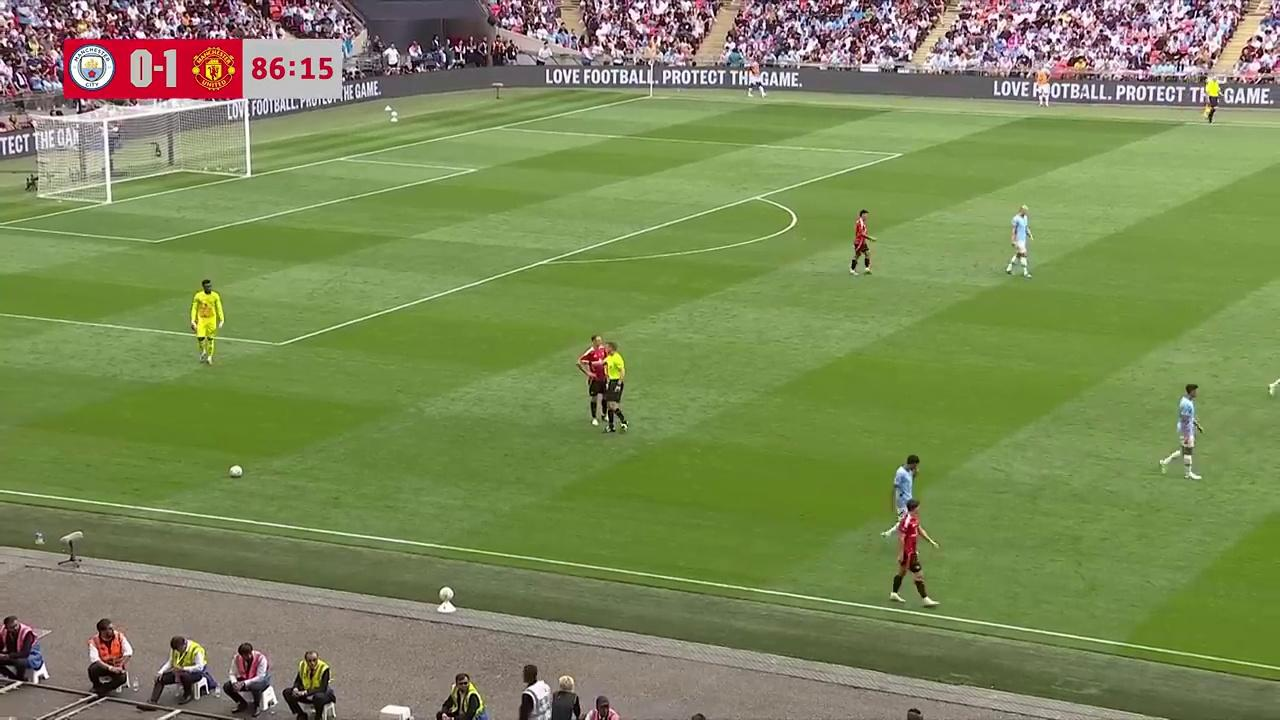ball: (229, 464, 243, 480)
player: (888, 501, 939, 604), (1159, 384, 1204, 479), (892, 454, 931, 543), (190, 280, 224, 365), (576, 336, 608, 426), (1005, 206, 1033, 279), (891, 454, 919, 526), (850, 210, 875, 275), (1269, 346, 1280, 398)
referee: (600, 342, 627, 434), (1203, 76, 1220, 124)
